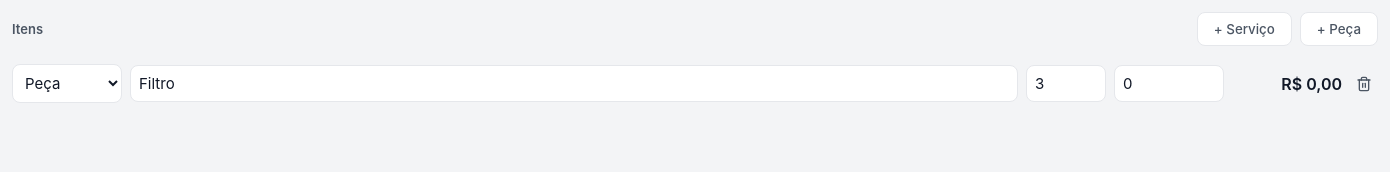
Scenario: cálculo do total da linha › arredonda a duas casas em vez de propagar dízima
Replace the text in the number field named "Preço unitário do item 1" with "33.33". click: {"x": 1169, "y": 84}
box: [1114,65,1224,102]
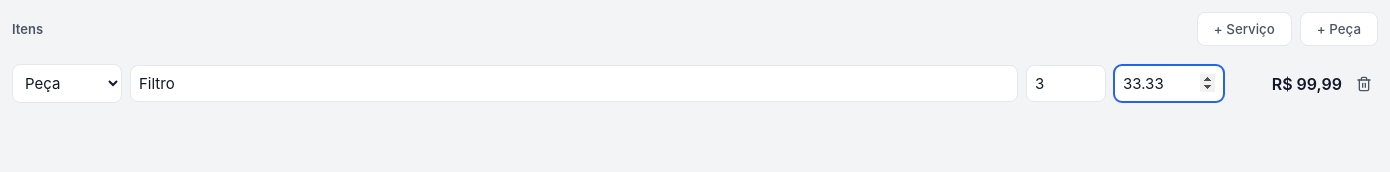
Now the text "R$ 99,99" is shown, box [1272,74,1342,94]
